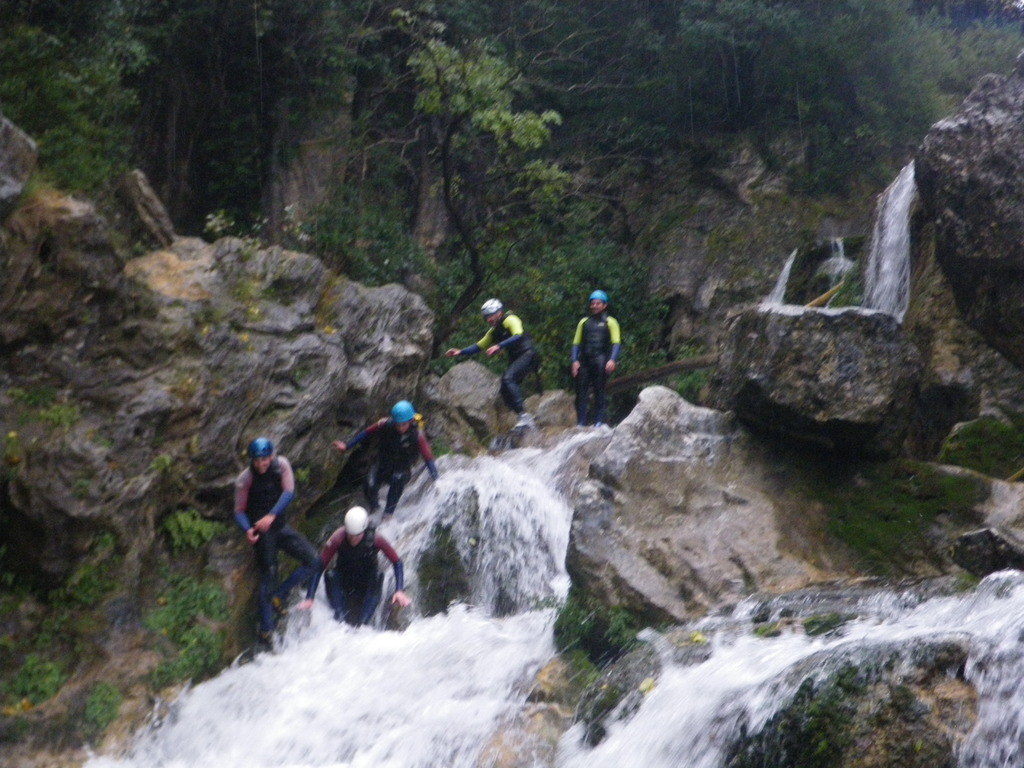Person: (233, 435, 319, 649), (293, 505, 412, 629), (330, 400, 441, 524), (446, 298, 543, 434), (572, 289, 622, 428)
